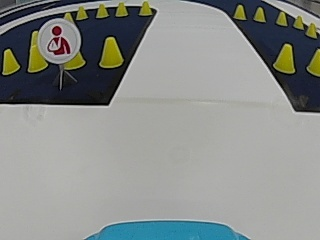cone: (99, 36, 123, 68), (27, 36, 47, 72), (274, 43, 295, 73), (2, 48, 19, 74), (63, 50, 85, 70), (306, 47, 319, 76), (138, 1, 152, 16), (233, 4, 246, 19), (75, 5, 88, 20), (95, 3, 108, 18), (115, 2, 128, 17), (305, 22, 317, 38), (254, 7, 266, 22), (276, 12, 288, 26), (293, 15, 303, 29)
patient: (38, 18, 78, 61)
